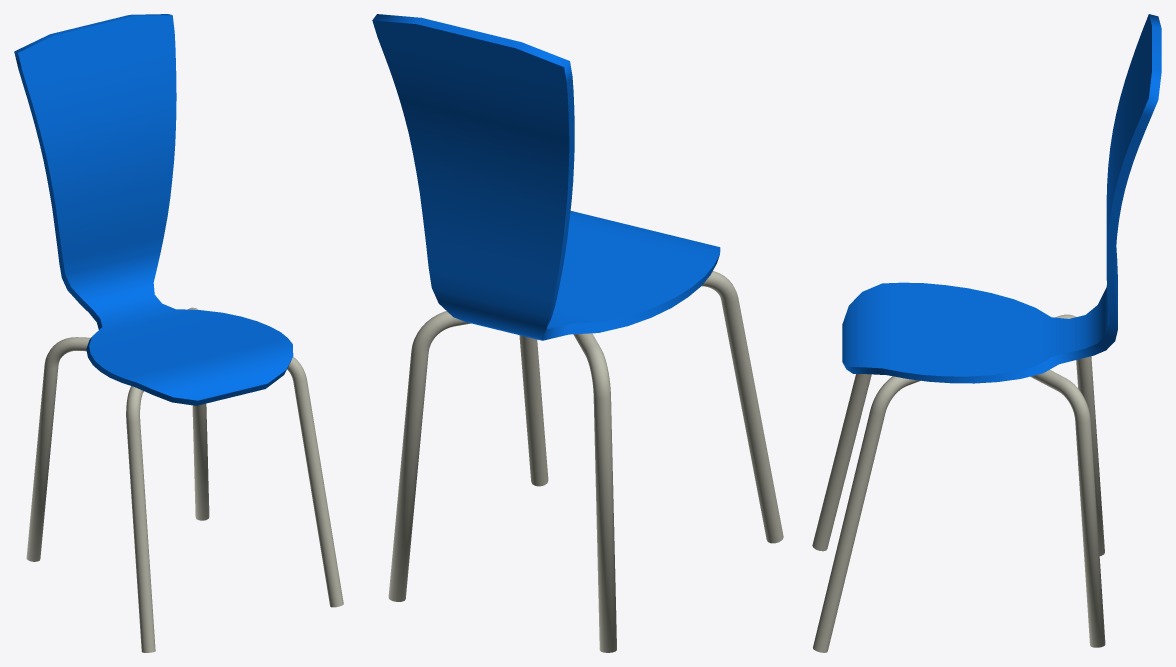
File: chair-001.glb
The picture shows the model from 3 angles, left to right: view 1: azimuth 30°, elevation 25°; view 2: azimuth 150°, elevation 25°; view 3: azimuth 270°, elevation 25°; orthographic projection. The views are drawn at different scales.
Visible parts, largest first — view 1: dining-chair; view 2: dining-chair; view 3: dining-chair.
Boxes of the visible parts, x1,y1,x2,y2 form: dining-chair: (14, 14, 343, 652); dining-chair: (372, 14, 783, 652); dining-chair: (812, 14, 1161, 652).
Size of the model in its own units: 0.3602 by 0.85 by 0.4875.
